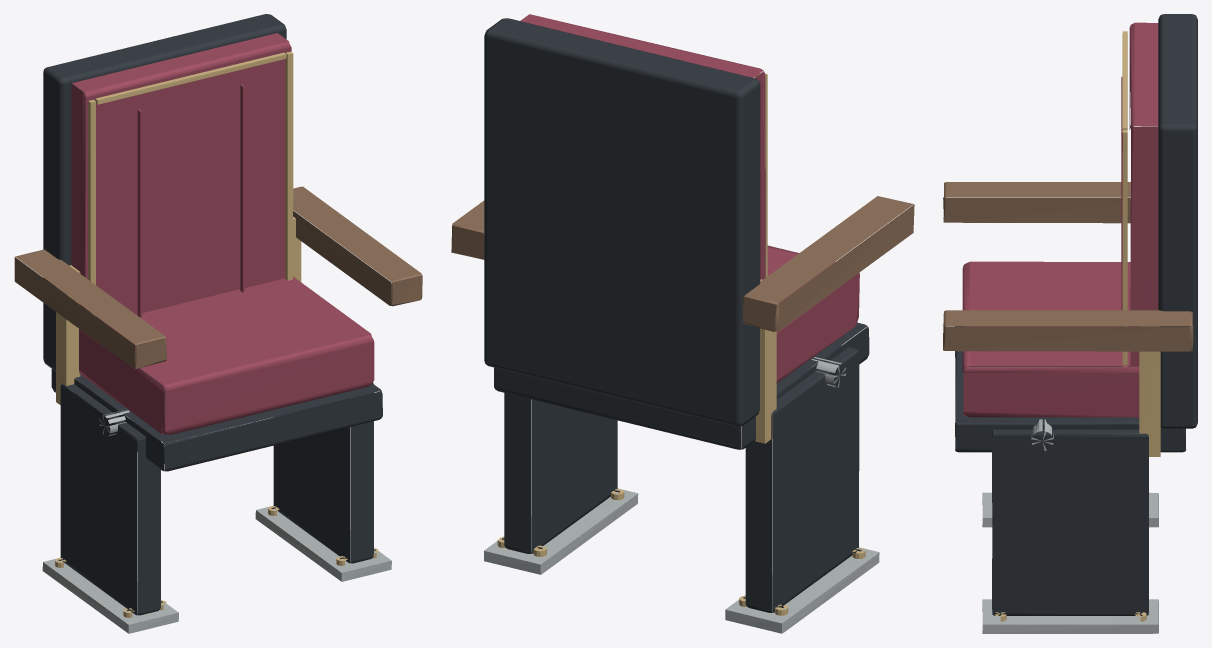
The model's file is sitz_hi.glb.
3 renders of one model, left to right at view 1: azimuth 30°, elevation 25°; view 2: azimuth 150°, elevation 25°; view 3: azimuth 270°, elevation 25°, orthographic. The views are drawn at different scales.
Visible parts, largest first — view 1: abandoned-cinema-and-projection-booth-auditorium-seat; view 2: abandoned-cinema-and-projection-booth-auditorium-seat; view 3: abandoned-cinema-and-projection-booth-auditorium-seat.
Boxes of the visible parts, x1,y1,x2,y2 form: abandoned-cinema-and-projection-booth-auditorium-seat: (14,14,422,633); abandoned-cinema-and-projection-booth-auditorium-seat: (451,14,914,633); abandoned-cinema-and-projection-booth-auditorium-seat: (943,14,1197,633).
Bounding box in the file's own units: 0.6287 × 1.01 × 0.4691.
